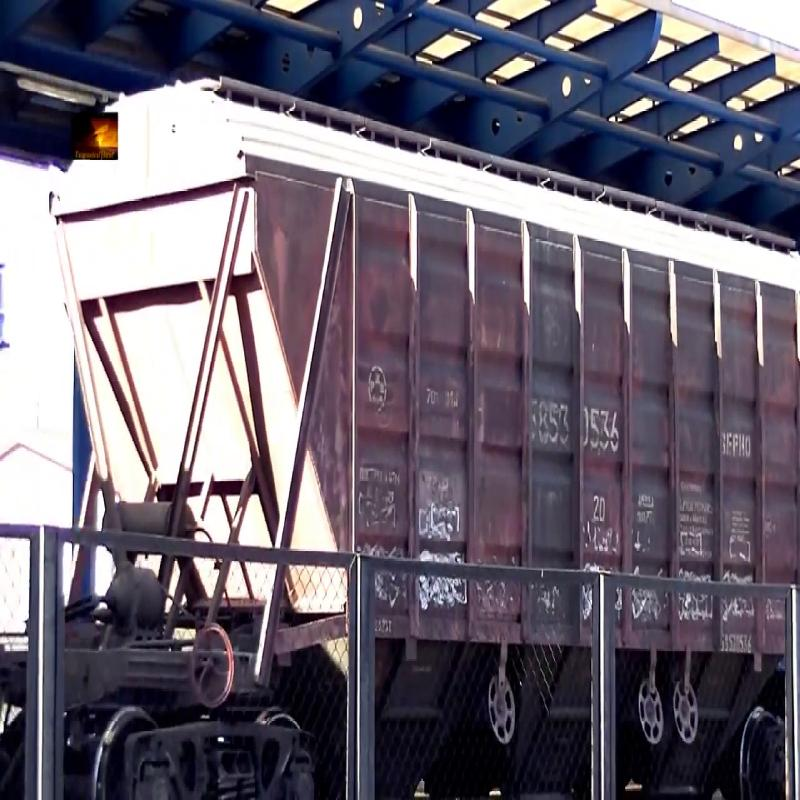train: (51, 22, 800, 771)
